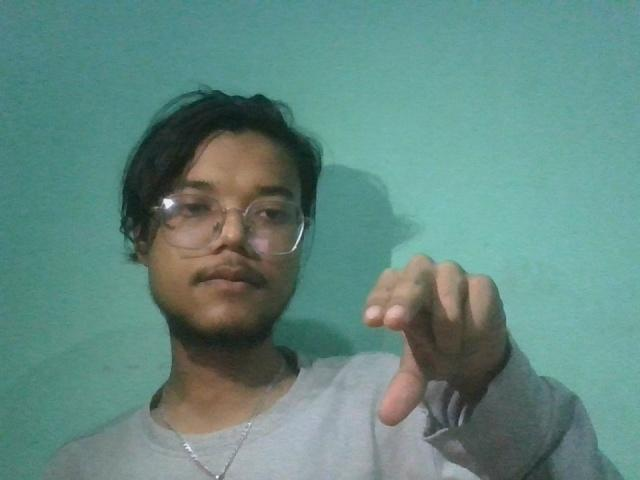No: (351, 248, 532, 440)
